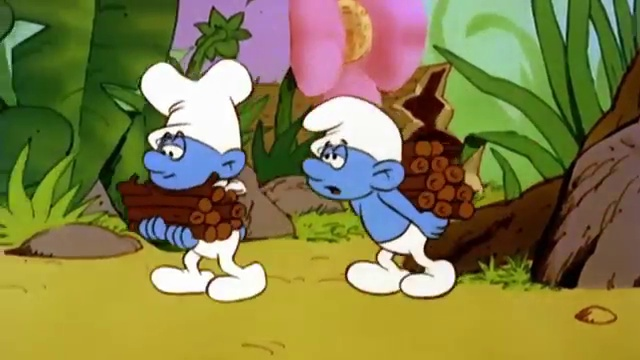smurf: (301, 89, 459, 303), (137, 58, 267, 308)
